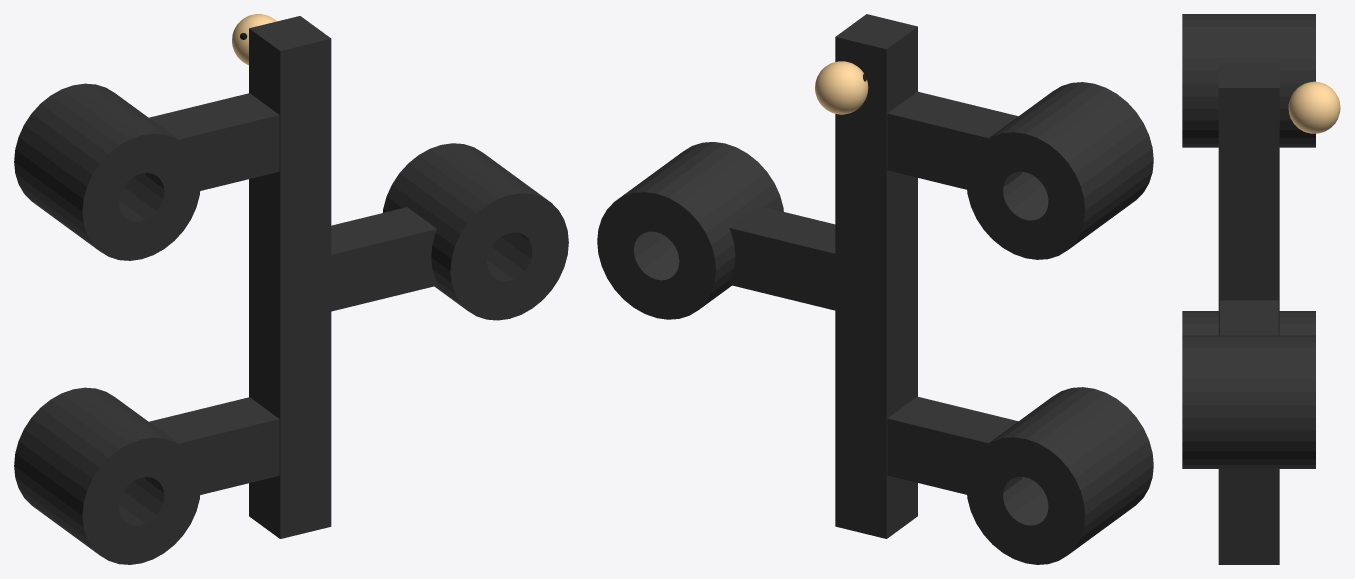
File: tempFile.glb
3 views of the same model, side by side, from view 1: azimuth 30°, elevation 25°; view 2: azimuth 150°, elevation 25°; view 3: azimuth 270°, elevation 25° (orthographic). The views are drawn at different scales.
Visible parts, largest first — view 1: shape, charac; view 2: shape, charac; view 3: shape, charac.
Boxes of the visible parts, left/top/right/bottom form: shape: left=14, top=16, right=568, bottom=564; charac: left=232, top=14, right=276, bottom=65; shape: left=597, top=14, right=1153, bottom=564; charac: left=815, top=61, right=868, bottom=114; shape: left=1182, top=14, right=1315, bottom=564; charac: left=1288, top=81, right=1340, bottom=133.
Bounding box in the file's own units: 6.95 × 6.67 × 2.
